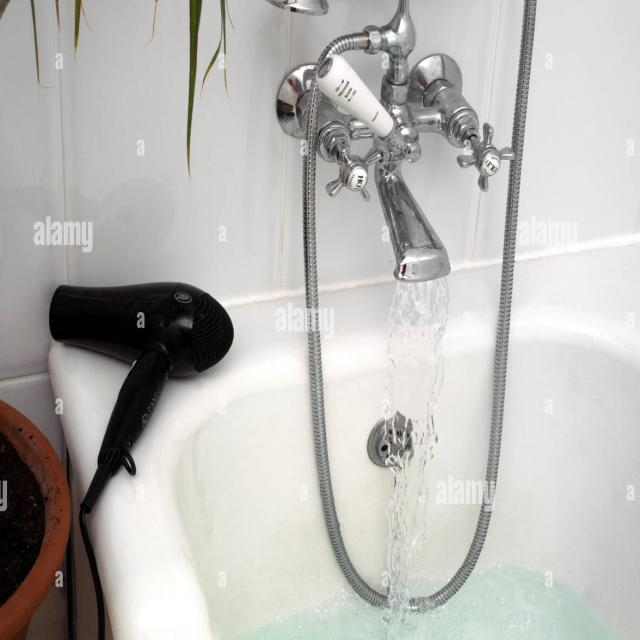dryer: (30, 247, 244, 520)
